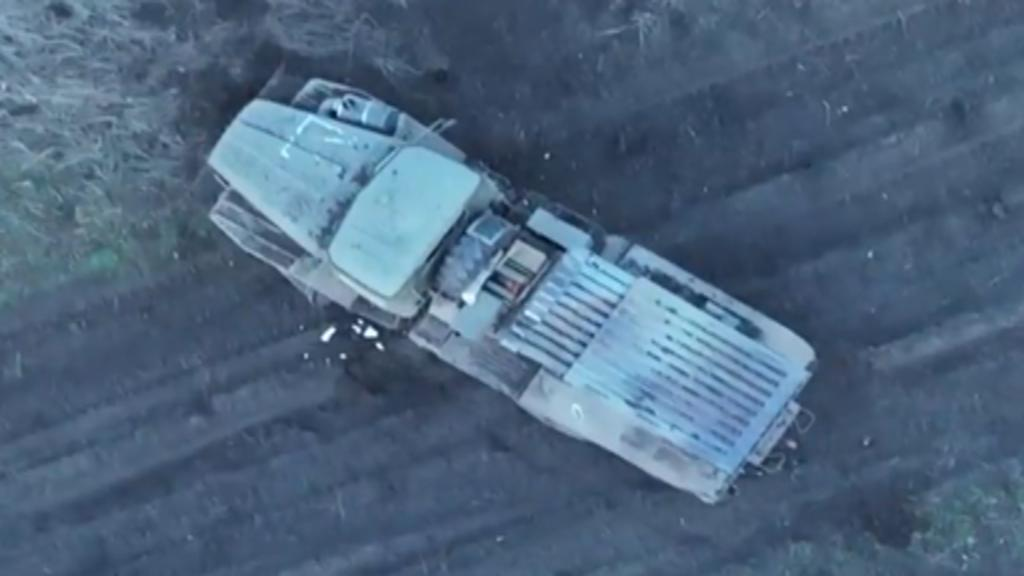MLRS: (190, 55, 820, 518)
